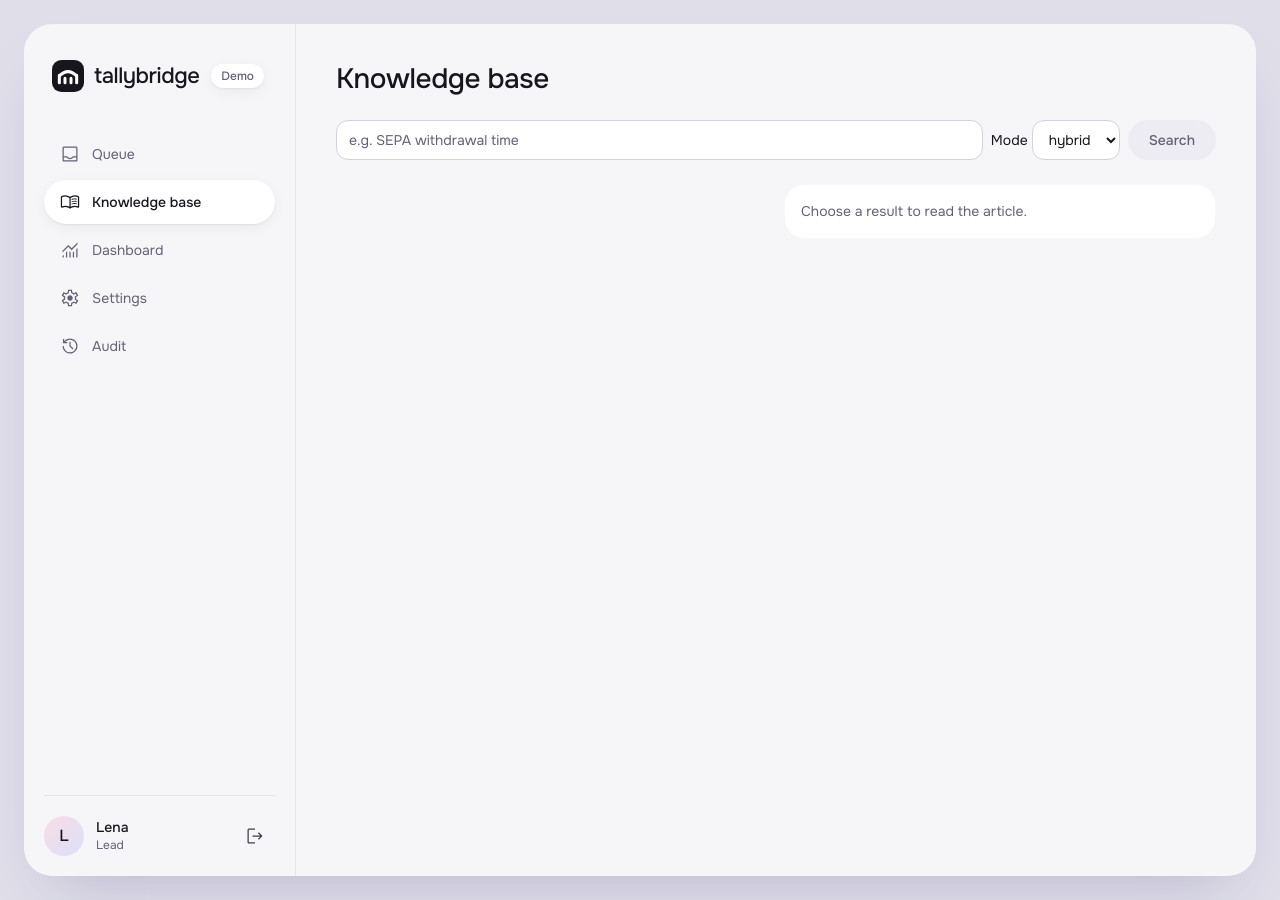
Test: knowledge base › badges internal results and opens the article
Type "fraud" into the field named "Search the knowledge base". click: (659, 140)
box: x1=336 y1=120 x2=983 y2=160
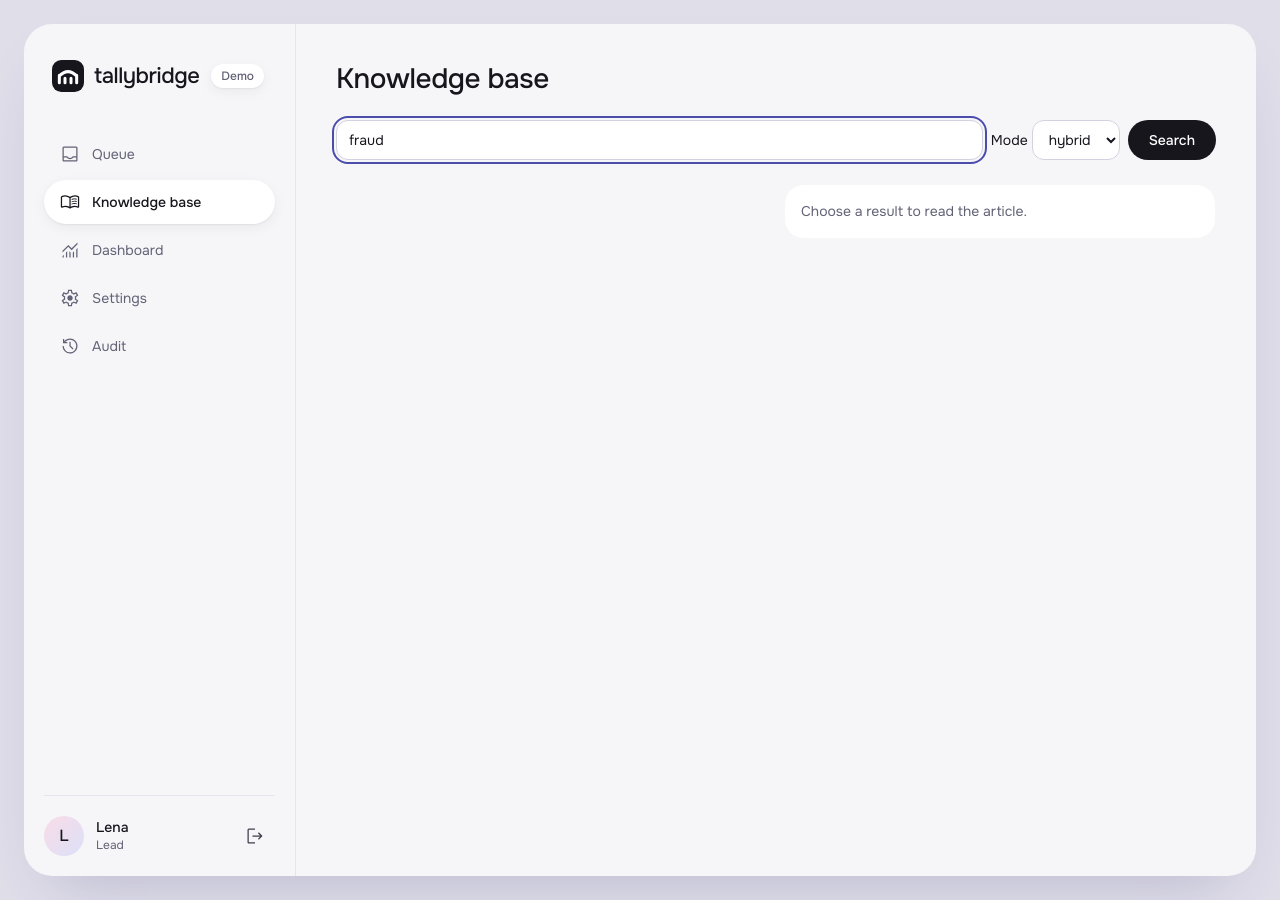
Click the button "Search". click: (1172, 140)
box: x1=1128 y1=120 x2=1216 y2=160
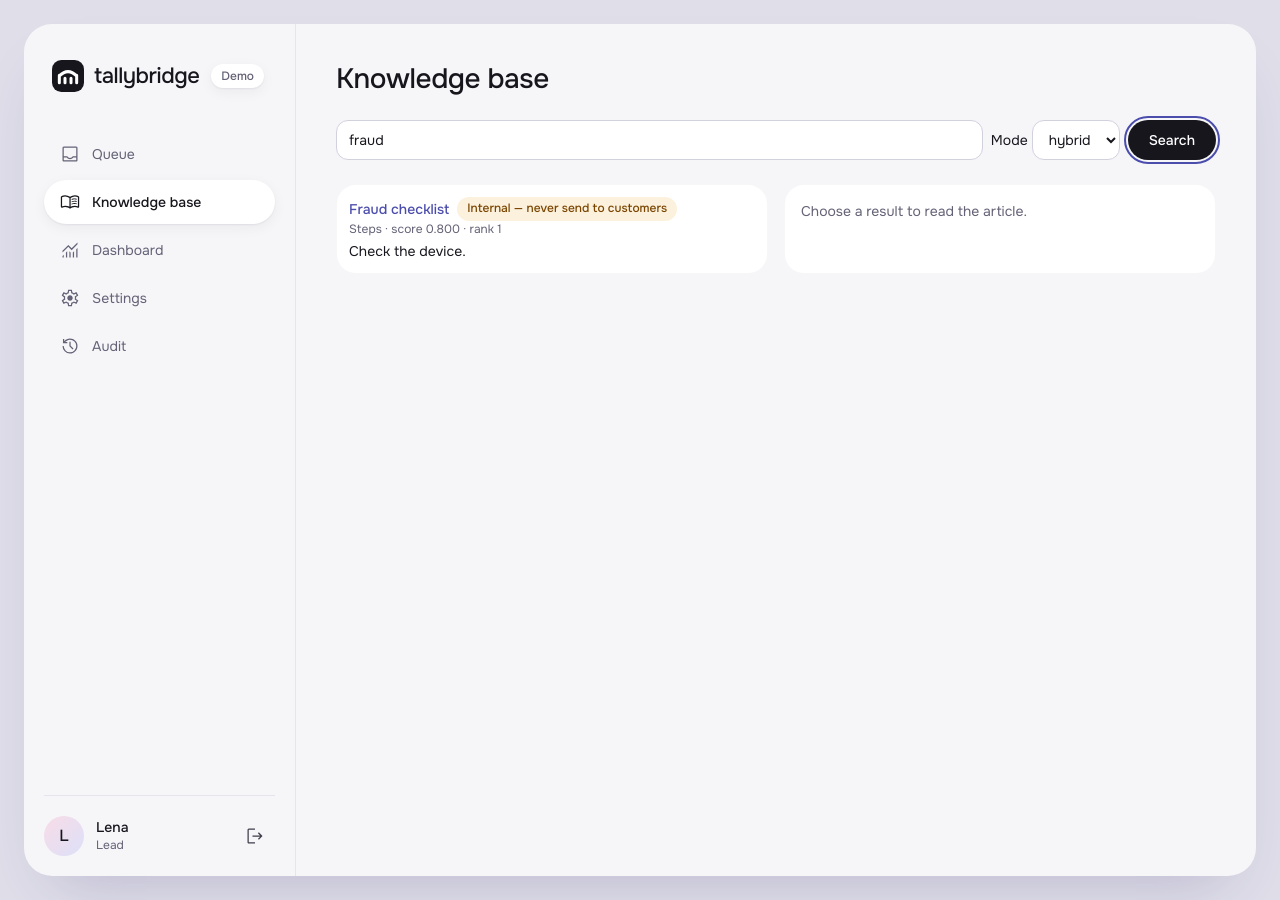
Result: the text "Internal — never send to customers" is shown at x1=457 y1=197 x2=677 y2=221
Click the button "Fraud checklist". click: (399, 209)
box: x1=349 y1=199 x2=449 y2=219
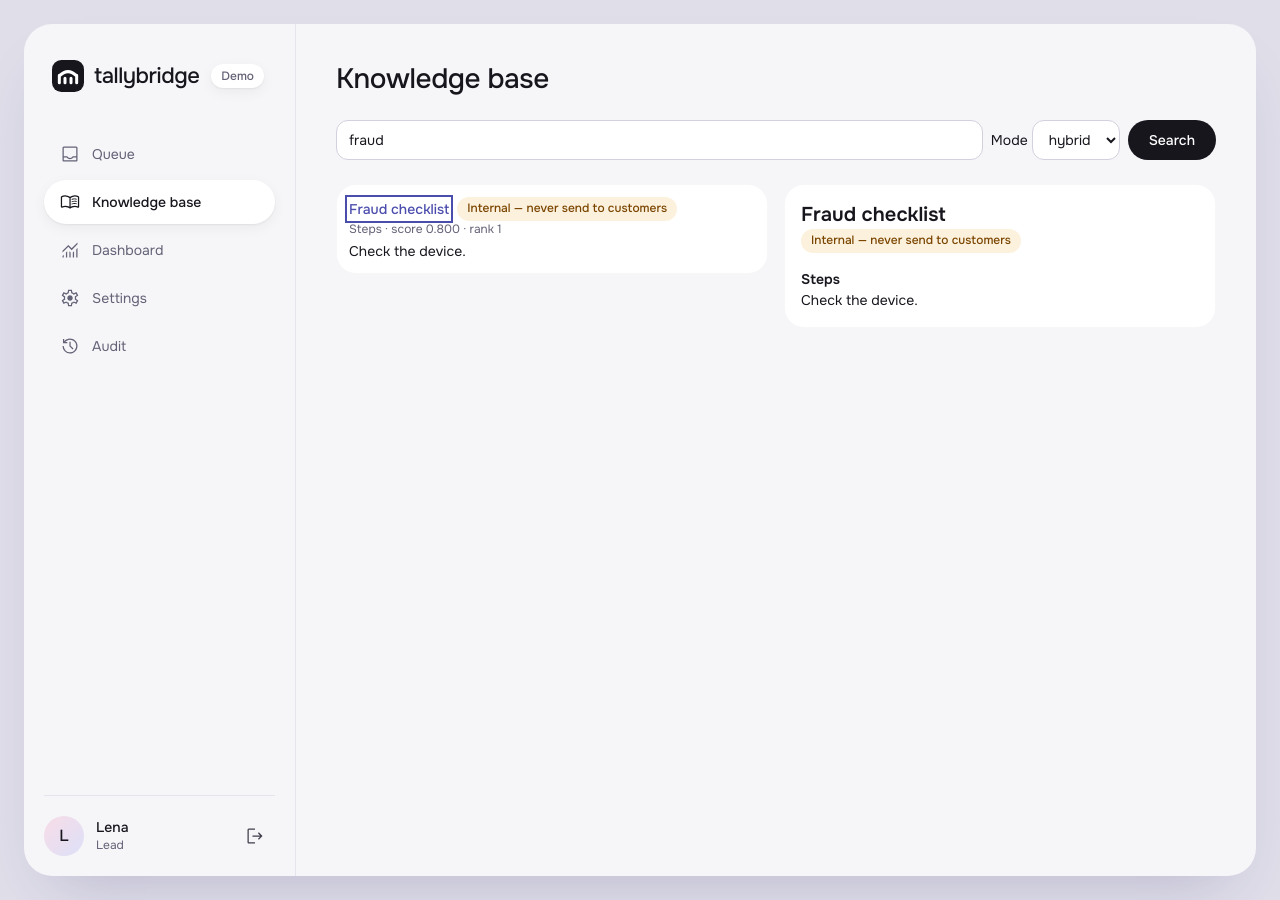
Result: the heading "Fraud checklist" is shown at x1=801 y1=202 x2=946 y2=227
